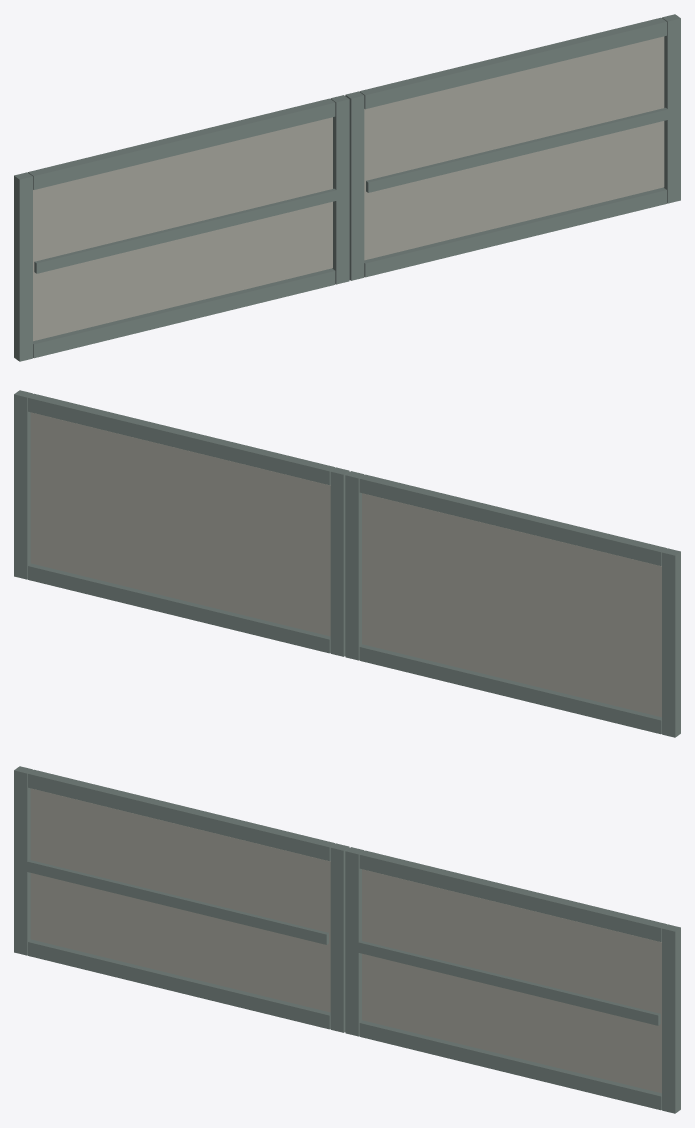
The model's file is SM_PuertaVehiculos_v1_LOD1.fbx.
3 views of the same model, one above another, from view 1: azimuth 30°, elevation 25°; view 2: azimuth 150°, elevation 25°; view 3: azimuth 330°, elevation 25° (orthographic).
Parts seen in each view (by area): view 1: Hoja_O, Hoja_E; view 2: Hoja_O, Hoja_E; view 3: Hoja_E, Hoja_O.
Boxes of the visible parts, left/top/right/bottom form: Hoja_O: left=14, top=95, right=349, bottom=361; Hoja_E: left=345, top=14, right=680, bottom=280; Hoja_O: left=345, top=471, right=680, bottom=737; Hoja_E: left=14, top=390, right=349, bottom=656; Hoja_E: left=345, top=847, right=680, bottom=1113; Hoja_O: left=14, top=766, right=349, bottom=1032.
Size of what is drawn, in the model's own units: 7.98 by 2.1 by 0.165.
